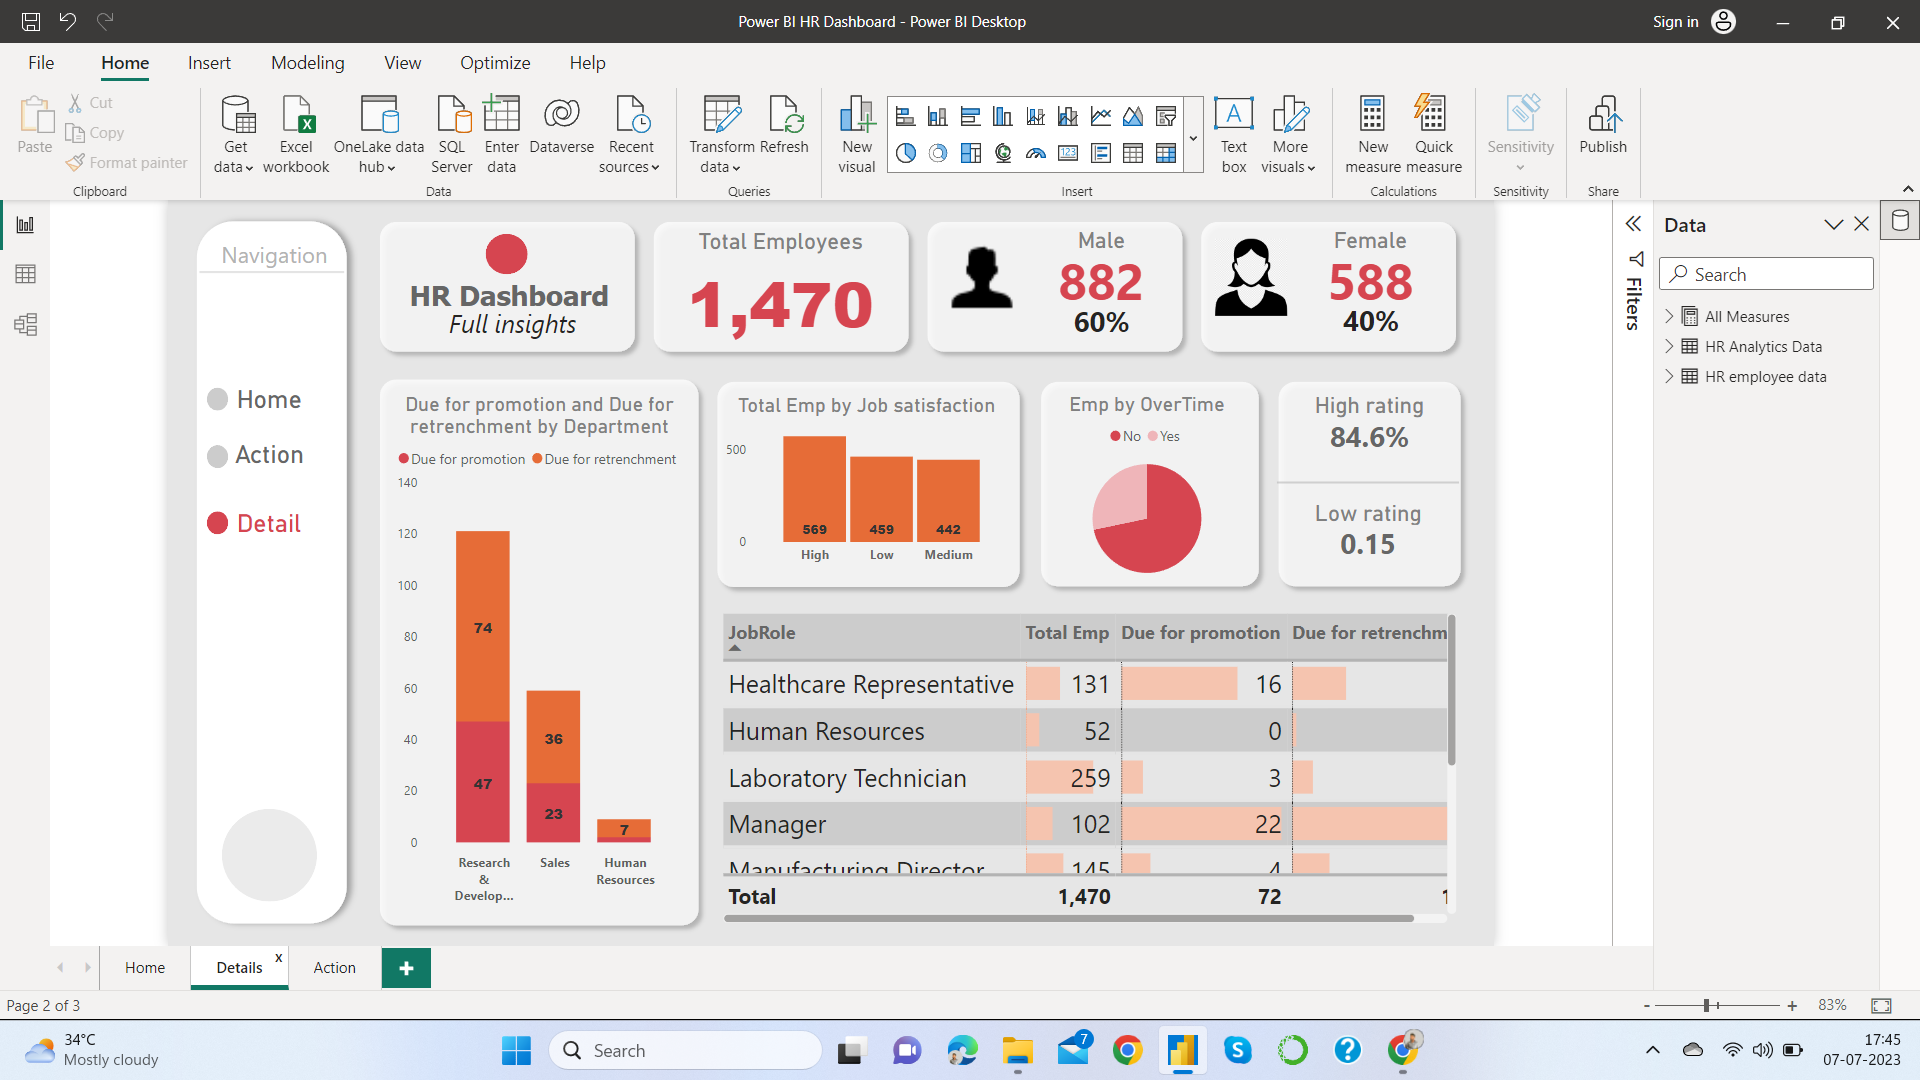

What the dashboard file says about the page in this screenshot:
{"tool":"powerbi","page":{"name":"Details","canvas":[1280,720],"ordinal":1},"visuals":[{"type":"shape","box":[16.5,9.6,166.5,699.2],"z":0},{"type":"shape","box":[195.4,12.4,264.3,143.1],"z":1000},{"type":"shape","box":[459.7,12.4,264.3,143.1],"z":2000},{"type":"shape","box":[724,12.4,264.3,143.1],"z":3000},{"type":"shape","box":[988.2,12.4,264.3,143.1],"z":4000},{"type":"shape","box":[195.2,164.4,325.9,544.6],"z":5000},{"type":"shape","box":[521.1,165.9,309.7,215.8],"z":6000},{"type":"shape","box":[833.6,166.7,228.3,215],"z":7000},{"type":"shape","box":[1063.1,166.7,193.3,215],"z":8000},{"type":"textbox","box":[209.7,71.2,238.7,51.4],"z":9000},{"type":"textbox","box":[36.9,33,130.5,51.4],"z":10000},{"type":"textbox","box":[209.7,97.6,251.9,55.4],"z":11000},{"type":"shape","box":[305.9,33,40.9,39.6],"z":12000},{"type":"card","title":"Total Employees","fields":{"Values":["All Measures.Total Emp"]},"box":[468,27.5,246.4,112.9],"z":13000},{"type":"card","title":"Male","fields":{"Values":["All Measures.Male"]},"box":[814.8,26.2,170.7,75.7],"z":14000},{"type":"card","fields":{"Values":["All Measures.Male %"]},"box":[834.1,90.8,132.1,55.1],"z":15000},{"type":"card","title":"Female","fields":{"Values":["All Measures.Female"]},"box":[1068.7,26.2,183.1,75.7],"z":16000},{"type":"card","fields":{"Values":["All Measures.Female %"]},"box":[1083.9,90.8,152.8,53.7],"z":17000},{"type":"image","box":[736.3,26.2,95,90.8],"z":18000},{"type":"image","box":[1004.7,33,79.8,84],"z":19000},{"type":"columnChart","fields":{"Category":["HR Analytics Data.Department"],"Y":["All Measures.Due for promotion","All Measures.Due for retirment"]},"box":[216.3,185.9,284.8,501.1],"z":20000},{"type":"tableEx","fields":{"Values":["HR Analytics Data.JobRole","All Measures.Total Emp","All Measures.Due for promotion","All Measures.Due for retirment"]},"box":[529.5,393.8,718.8,308.1],"z":21000},{"type":"columnChart","fields":{"Category":["HR Analytics Data.Job satisfaction"],"Y":["All Measures.Total Emp"]},"box":[532.8,186.4,281.8,173.2],"z":22000},{"type":"pieChart","title":"Emp by OverTime","fields":{"Category":["HR Analytics Data.OverTime"],"Y":["All Measures.Total Emp"]},"box":[820.3,186,248.9,192.1],"z":23000},{"type":"card","title":"High rating","fields":{"Values":["All Measures.% High emp rating"]},"box":[1066.7,186,186,61.6],"z":24000},{"type":"card","title":"Low rating","fields":{"Values":["All Measures.% Low emp rating"]},"box":[1065.5,289.9,186,61.6],"z":25000},{"type":"shape","box":[1070.1,265.7,176.1,14.7],"z":26000},{"type":"shape","box":[36.9,300.7,21.1,22.4],"z":27000},{"type":"actionButton","title":"Detail","box":[27.7,298,139.8,39.6],"z":28000},{"type":"shape","box":[36.9,236,21.1,22.4],"z":29000},{"type":"actionButton","title":"Action","box":[27.7,232.1,139.8,58],"z":30000},{"type":"shape","box":[36.9,180.7,21.1,22.4],"z":31000},{"type":"actionButton","title":"Home","box":[27.7,178,139.8,54.1],"z":32000},{"type":"shape","box":[51.4,586.8,92.3,89.7],"z":33000},{"type":"shape","box":[30.2,61.6,140.1,15.7],"z":34000}]}

Visuals, with their boxes on the page's 1280x720 design canvas (x1, y1, x2, y2). These are canvas units, not pixel positions in the 1920x1080 screenshot, which may show the page scaled, cropped or inside an application window:
shape: <region>16, 10, 183, 709</region>
shape: <region>195, 12, 460, 156</region>
shape: <region>460, 12, 724, 156</region>
shape: <region>724, 12, 988, 156</region>
shape: <region>988, 12, 1252, 156</region>
shape: <region>195, 164, 521, 709</region>
shape: <region>521, 166, 831, 382</region>
shape: <region>834, 167, 1062, 382</region>
shape: <region>1063, 167, 1256, 382</region>
textbox: <region>210, 71, 448, 123</region>
textbox: <region>37, 33, 167, 84</region>
textbox: <region>210, 98, 462, 153</region>
shape: <region>306, 33, 347, 73</region>
"Total Employees" card: <region>468, 28, 714, 140</region>
"Male" card: <region>815, 26, 986, 102</region>
card - All Measures.Male %: <region>834, 91, 966, 146</region>
"Female" card: <region>1069, 26, 1252, 102</region>
card - All Measures.Female %: <region>1084, 91, 1237, 144</region>
image: <region>736, 26, 831, 117</region>
image: <region>1005, 33, 1084, 117</region>
columnChart - HR Analytics Data.Department x All Measures.Due for promotion: <region>216, 186, 501, 687</region>
tableEx - HR Analytics Data.JobRole x All Measures.Total Emp: <region>530, 394, 1248, 702</region>
columnChart - HR Analytics Data.Job satisfaction x All Measures.Total Emp: <region>533, 186, 815, 360</region>
"Emp by OverTime" pieChart: <region>820, 186, 1069, 378</region>
"High rating" card: <region>1067, 186, 1253, 248</region>
"Low rating" card: <region>1066, 290, 1252, 352</region>
shape: <region>1070, 266, 1246, 280</region>
shape: <region>37, 301, 58, 323</region>
"Detail" actionButton: <region>28, 298, 168, 338</region>
shape: <region>37, 236, 58, 258</region>
"Action" actionButton: <region>28, 232, 168, 290</region>
shape: <region>37, 181, 58, 203</region>
"Home" actionButton: <region>28, 178, 168, 232</region>
shape: <region>51, 587, 144, 676</region>
shape: <region>30, 62, 170, 77</region>
